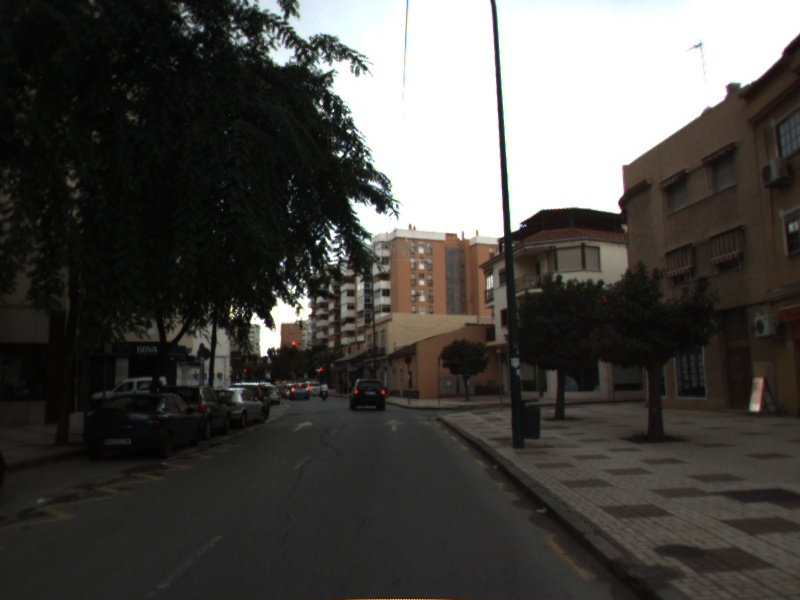STRAIGHT: (382, 417, 406, 433), (291, 419, 316, 433)
